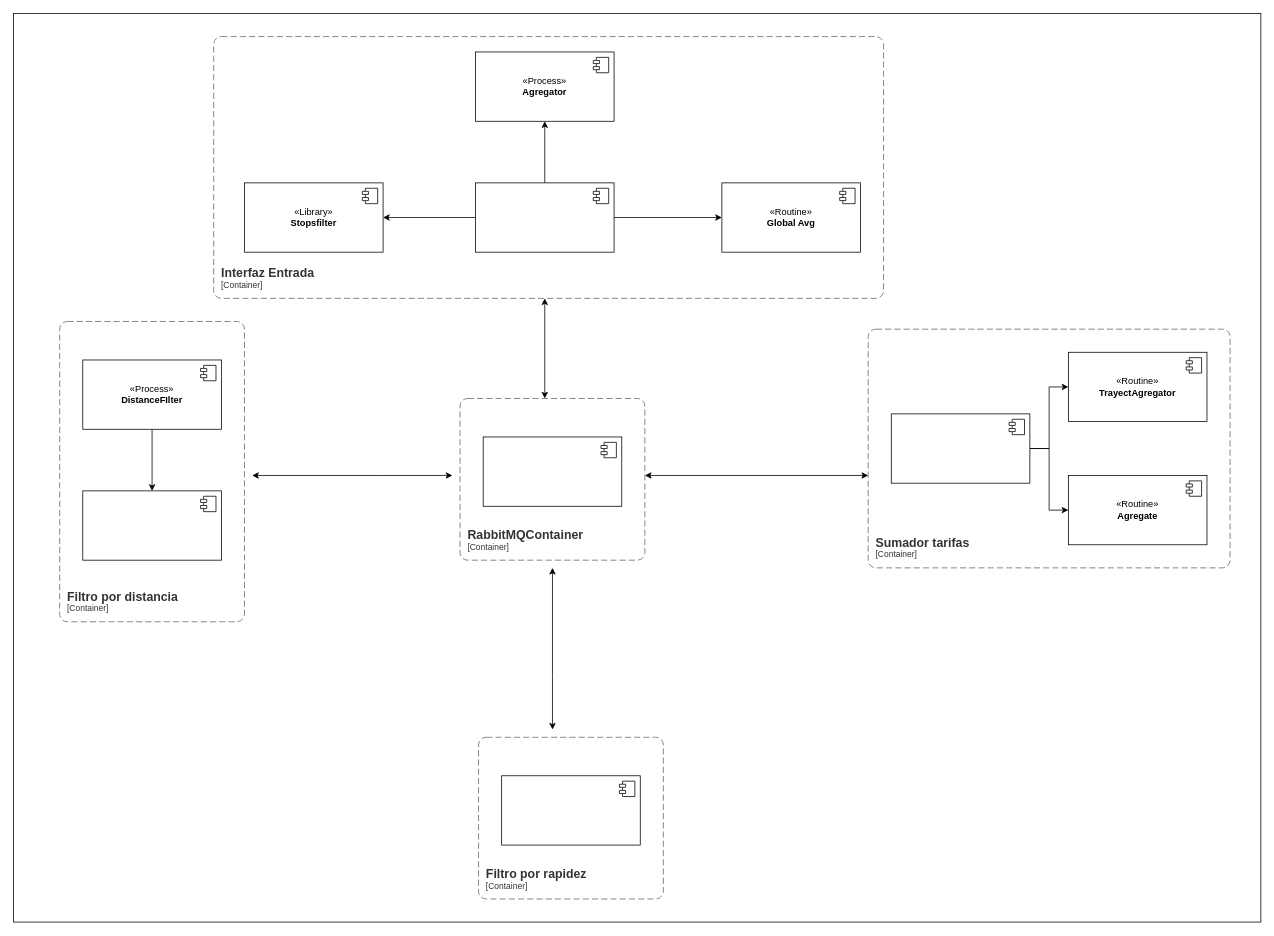
Some shapes in this 1274 by 936 pixel diagram are drawn without their labels. The centre of each missing label's shape, as x and y in pixels:
«Library» distance.DistanceComputer: the point at 151,525
«Process» AvgFilter: the point at 960,448
«Process» FastestFilter: the point at 570,810
«Process» Parser: the point at 544,217
«Process» RabbitMQ: the point at 552,471
